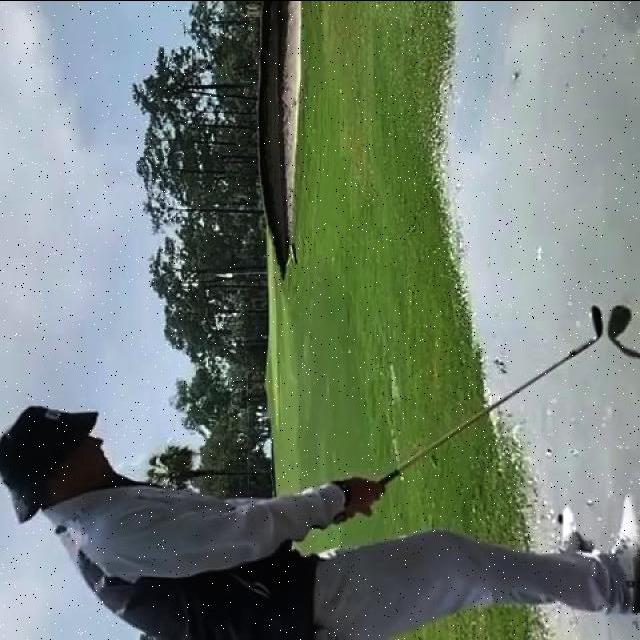golf club-handle: (331, 306, 602, 524)
golf club-head: (590, 304, 602, 333)
